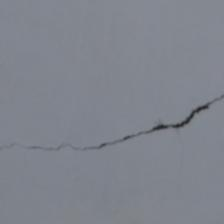Crack: (3, 48, 221, 107)
